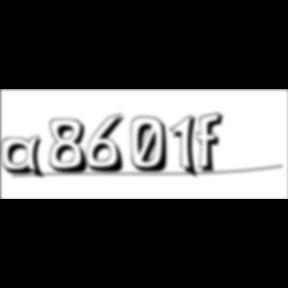0: (130, 115, 176, 174)
1: (169, 114, 204, 182)
6: (86, 112, 132, 176)
8: (50, 117, 94, 176)
a: (1, 135, 49, 182)
f: (197, 111, 230, 175)
